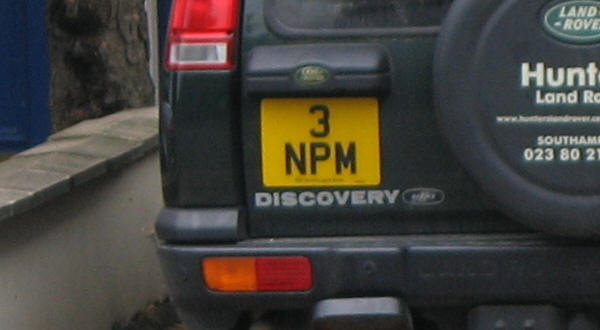license_plate: (258, 97, 384, 191)
